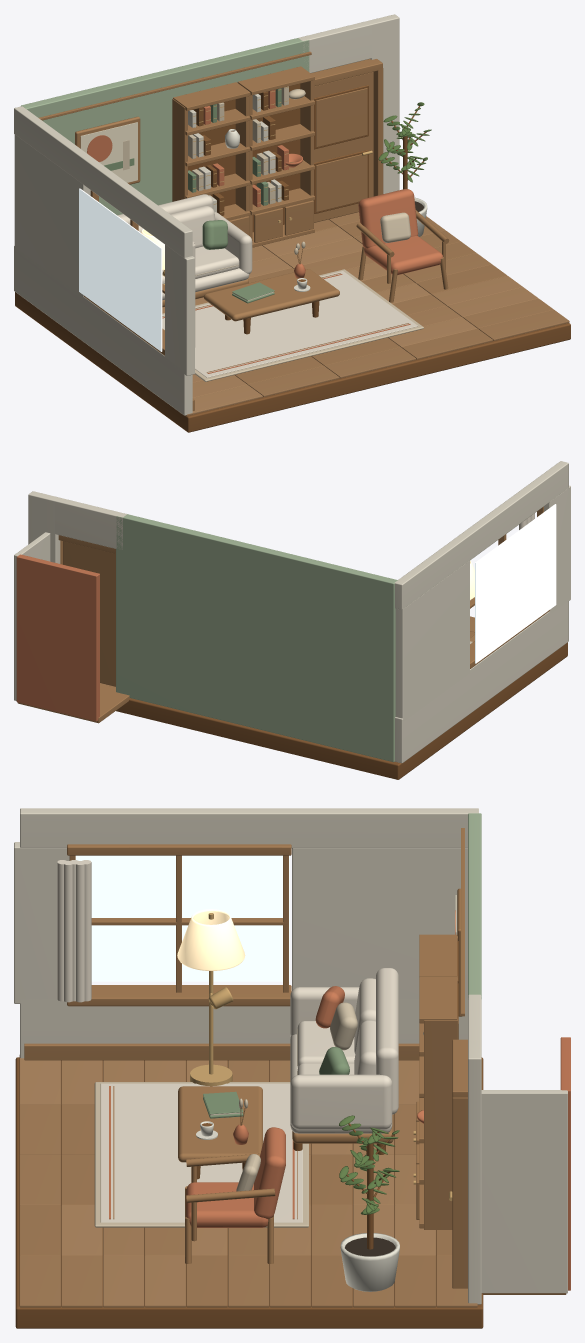
File: afternoon-atelier.glb
The picture shows the model from 3 angles, top to bottom: view 1: azimuth 30°, elevation 25°; view 2: azimuth 150°, elevation 25°; view 3: azimuth 270°, elevation 25°; orthographic projection. The views are drawn at different scales.
Parts seen in each view (by area): view 1: Atelier_Static_WallSecondaryPigment, Atelier_Static_HoneyOak, Atelier_Static_OatLinen, Atelier_Static_OakEndGrain, Atelier_Static_WallPigment, Atelier_Static_WindowDaylight, Atelier_Static_OakBoard01, Atelier_Door_HoneyOak, Atelier_Static_OakBoard04, Atelier_Static_OakBoard00, Atelier_Static_Terracotta, Atelier_Static_CreamWool (+8 smaller); view 2: Atelier_Static_WallPigment, Atelier_Static_WallSecondaryPigment, Atelier_Static_Terracotta, Atelier_Static_WindowDaylight, Atelier_Static_OakEndGrain, Atelier_Door_HoneyOak, Atelier_Static_HoneyOak, Atelier_Static_ChalkPlaster; view 3: Atelier_Static_WallSecondaryPigment, Atelier_Static_HoneyOak, Atelier_Static_OatLinen, Atelier_Static_WindowDaylight, Atelier_Static_ChalkPlaster, Atelier_Static_OakBoard01, Atelier_Static_OakBoard00, Atelier_Static_OakEndGrain, Atelier_Static_OakBoard04, Atelier_Static_OakBoard03, Atelier_Static_Terracotta, Atelier_Static_CreamWool (+8 smaller).
Part boxes in pixels (x1,y1,x2,y2): Atelier_Static_WallSecondaryPigment: (14, 14, 399, 415); Atelier_Static_HoneyOak: (39, 51, 449, 410); Atelier_Static_OatLinen: (117, 194, 417, 377); Atelier_Static_OakEndGrain: (15, 83, 570, 432); Atelier_Static_WallPigment: (21, 38, 309, 215); Atelier_Static_WindowDaylight: (79, 188, 162, 351); Atelier_Static_OakBoard01: (248, 212, 569, 397); Atelier_Door_HoneyOak: (314, 72, 373, 222); Atelier_Static_OakBoard04: (162, 226, 477, 415); Atelier_Static_OakBoard00: (235, 216, 507, 384); Atelier_Static_Terracotta: (87, 89, 442, 373); Atelier_Static_CreamWool: (123, 86, 423, 381); Atelier_Static_WallPigment: (116, 514, 397, 762); Atelier_Static_WallSecondaryPigment: (28, 461, 570, 763); Atelier_Static_Terracotta: (16, 554, 99, 721); Atelier_Static_WindowDaylight: (475, 504, 556, 663); Atelier_Static_OakEndGrain: (116, 642, 567, 779); Atelier_Door_HoneyOak: (63, 541, 115, 686); Atelier_Static_HoneyOak: (17, 506, 549, 723); Atelier_Static_ChalkPlaster: (14, 532, 50, 700); Atelier_Static_WallSecondaryPigment: (14, 808, 481, 1304); Atelier_Static_HoneyOak: (24, 828, 566, 1294); Atelier_Static_OatLinen: (57, 860, 398, 1222); Atelier_Static_WindowDaylight: (75, 855, 289, 981); Atelier_Static_ChalkPlaster: (481, 1090, 567, 1293); Atelier_Static_OakBoard01: (19, 1060, 477, 1307); Atelier_Static_OakBoard00: (19, 1104, 452, 1307); Atelier_Static_OakEndGrain: (15, 941, 483, 1328); Atelier_Static_OakBoard04: (19, 1055, 435, 1255); Atelier_Static_OakBoard03: (61, 1060, 419, 1307); Atelier_Static_Terracotta: (109, 910, 570, 1290); Atelier_Static_CreamWool: (94, 1002, 423, 1227).
Size of the model in its own units: 7.13 by 3.49 by 6.55.
